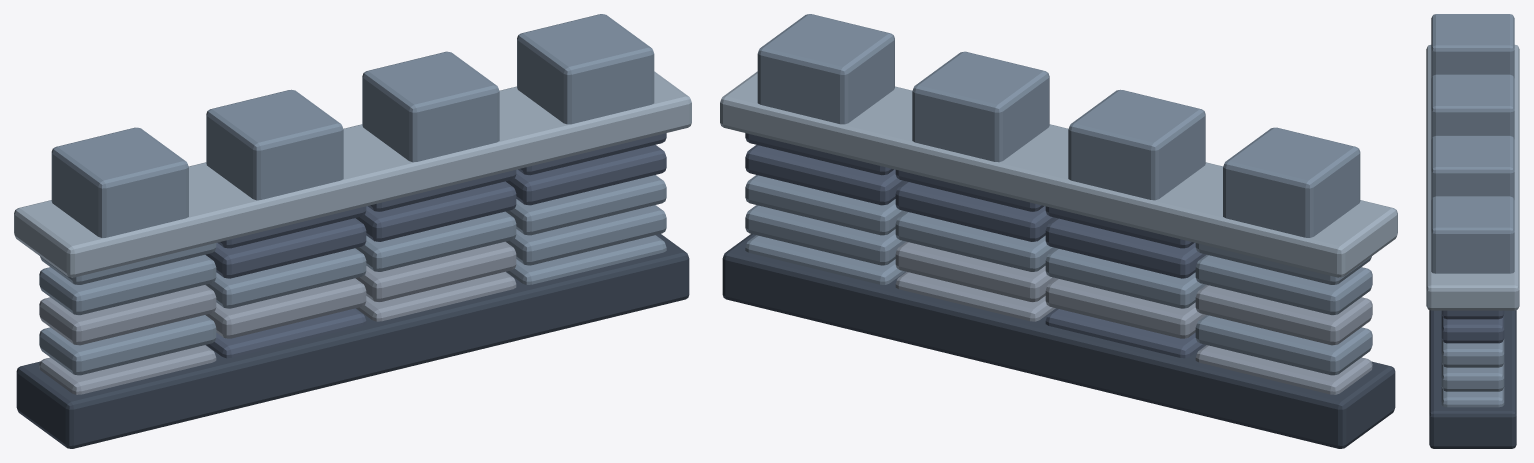
Rendered from parapet.glb.
The picture shows the model from 3 angles, left to right: view 1: azimuth 30°, elevation 25°; view 2: azimuth 150°, elevation 25°; view 3: azimuth 270°, elevation 25°; orthographic projection. The views are drawn at different scales.
Visible parts, largest first — view 1: Parapet_Plinth, Parapet_Cornice, Parapet_Merlon.003, Parapet_Merlon.002, Parapet_Merlon, Parapet_Merlon.001, Parapet_Masonry_3_0, Parapet_Masonry_4_0, Parapet_Masonry_2_0, Parapet_Masonry_2_3, Parapet_Masonry_3_1, Parapet_Masonry_3_3 (+14 smaller); view 2: Parapet_Plinth, Parapet_Cornice, Parapet_Merlon.003, Parapet_Merlon.002, Parapet_Merlon, Parapet_Merlon.001, Parapet_Masonry_3_0, Parapet_Masonry_4_0, Parapet_Masonry_2_0, Parapet_Masonry_2_3, Parapet_Masonry_3_1, Parapet_Masonry_3_3 (+14 smaller); view 3: Parapet_Merlon.003, Parapet_Cornice, Parapet_Plinth, Parapet_Merlon.001, Parapet_Merlon.002, Parapet_Merlon, Parapet_Masonry_4_3, Parapet_Masonry_3_3, Parapet_Masonry_2_3, Parapet_Masonry_1_3, Parapet_Masonry_5_3.
Boxes of the visible parts, bbox=[...] form: Parapet_Plinth: bbox=[16, 234, 689, 448]; Parapet_Cornice: bbox=[14, 71, 691, 277]; Parapet_Merlon.003: bbox=[517, 14, 654, 124]; Parapet_Merlon.002: bbox=[362, 51, 499, 162]; Parapet_Merlon: bbox=[51, 127, 188, 237]; Parapet_Merlon.001: bbox=[206, 89, 343, 200]; Parapet_Masonry_3_0: bbox=[39, 285, 216, 345]; Parapet_Masonry_4_0: bbox=[39, 255, 216, 315]; Parapet_Masonry_2_0: bbox=[39, 315, 216, 375]; Parapet_Masonry_2_3: bbox=[506, 205, 666, 265]; Parapet_Masonry_3_1: bbox=[205, 248, 366, 308]; Parapet_Masonry_3_3: bbox=[506, 175, 666, 235]; Parapet_Plinth: bbox=[722, 234, 1395, 448]; Parapet_Cornice: bbox=[720, 71, 1397, 277]; Parapet_Merlon.003: bbox=[757, 14, 894, 124]; Parapet_Merlon.002: bbox=[912, 51, 1049, 162]; Parapet_Merlon: bbox=[1223, 127, 1360, 237]; Parapet_Merlon.001: bbox=[1068, 89, 1205, 200]; Parapet_Masonry_3_0: bbox=[1195, 285, 1372, 345]; Parapet_Masonry_4_0: bbox=[1195, 255, 1372, 315]; Parapet_Masonry_2_0: bbox=[1195, 315, 1372, 375]; Parapet_Masonry_2_3: bbox=[745, 205, 905, 265]; Parapet_Masonry_3_1: bbox=[1045, 248, 1206, 308]; Parapet_Masonry_3_3: bbox=[745, 175, 905, 235]; Parapet_Merlon.003: bbox=[1431, 196, 1514, 273]; Parapet_Cornice: bbox=[1426, 45, 1519, 310]; Parapet_Plinth: bbox=[1429, 310, 1516, 448]; Parapet_Merlon.001: bbox=[1431, 74, 1514, 139]; Parapet_Merlon.002: bbox=[1431, 135, 1514, 199]; Parapet_Merlon: bbox=[1431, 14, 1514, 78]; Parapet_Masonry_4_3: bbox=[1441, 314, 1504, 343]; Parapet_Masonry_3_3: bbox=[1441, 339, 1504, 367]; Parapet_Masonry_2_3: bbox=[1441, 363, 1504, 391]; Parapet_Masonry_1_3: bbox=[1441, 387, 1504, 407]; Parapet_Masonry_5_3: bbox=[1441, 310, 1504, 319].
Bounding box in the file's own units: 4.16 × 1.65 × 0.67.
